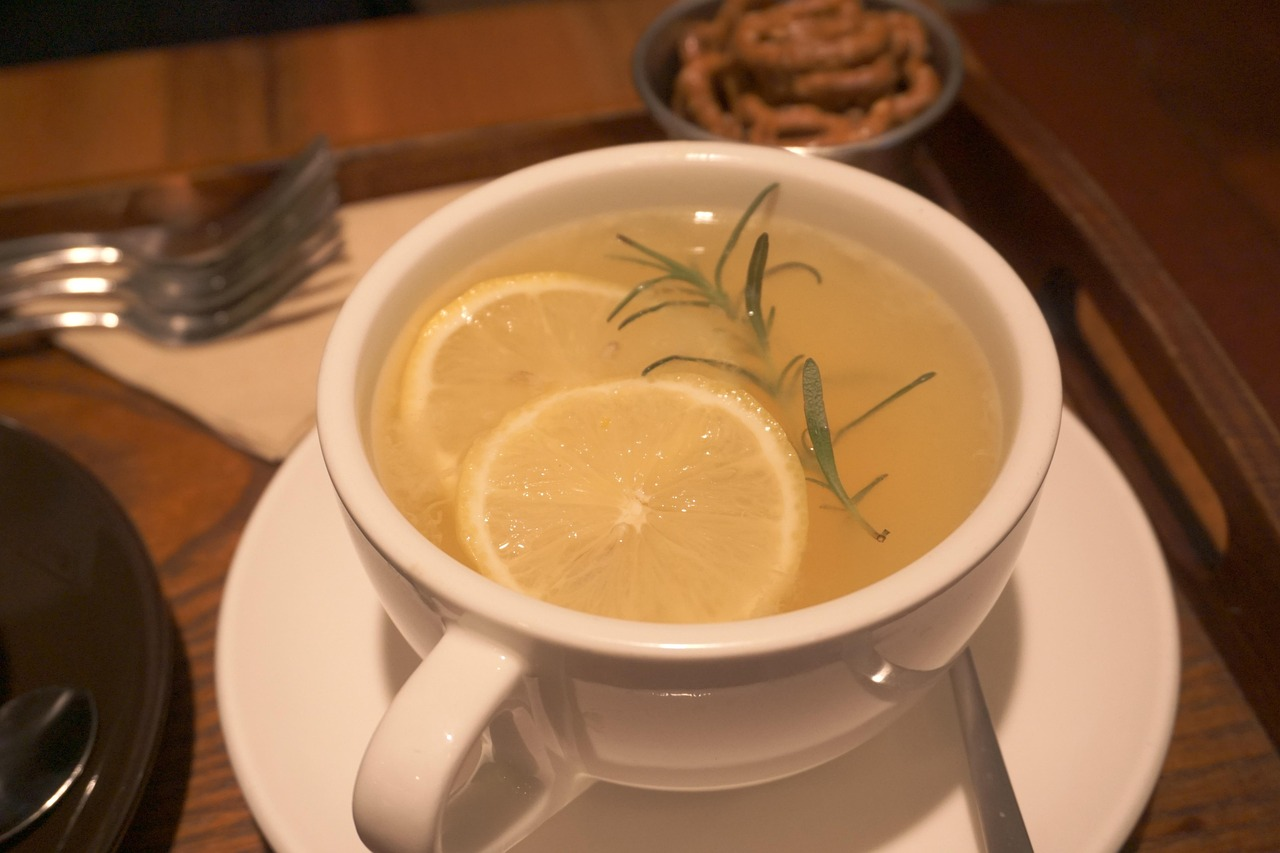mug: (253, 111, 1076, 853)
